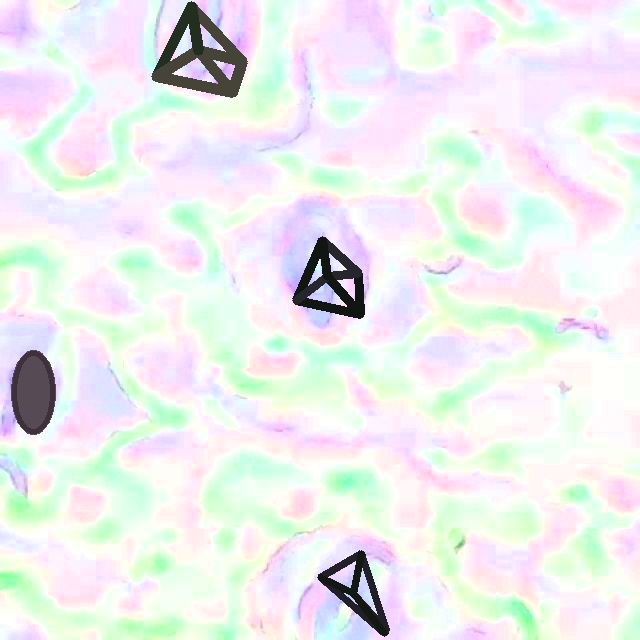open: (151, 2, 246, 97), (317, 550, 389, 636), (292, 236, 362, 317), (11, 350, 56, 434)
